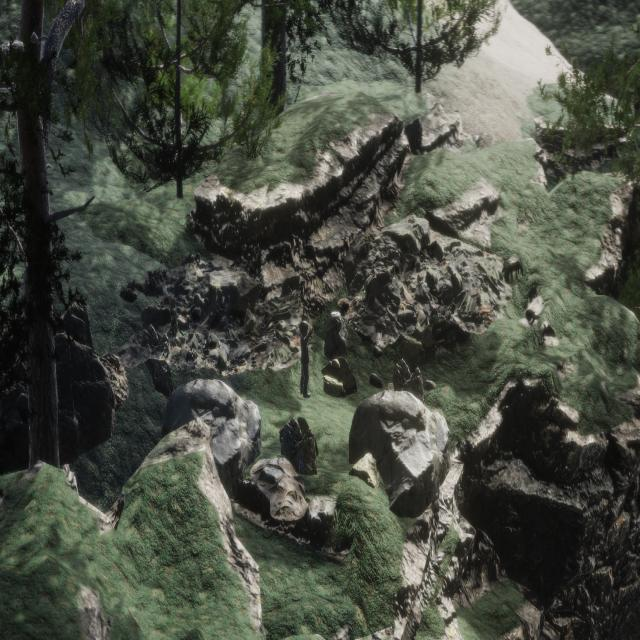Human: (294, 300, 316, 404)
